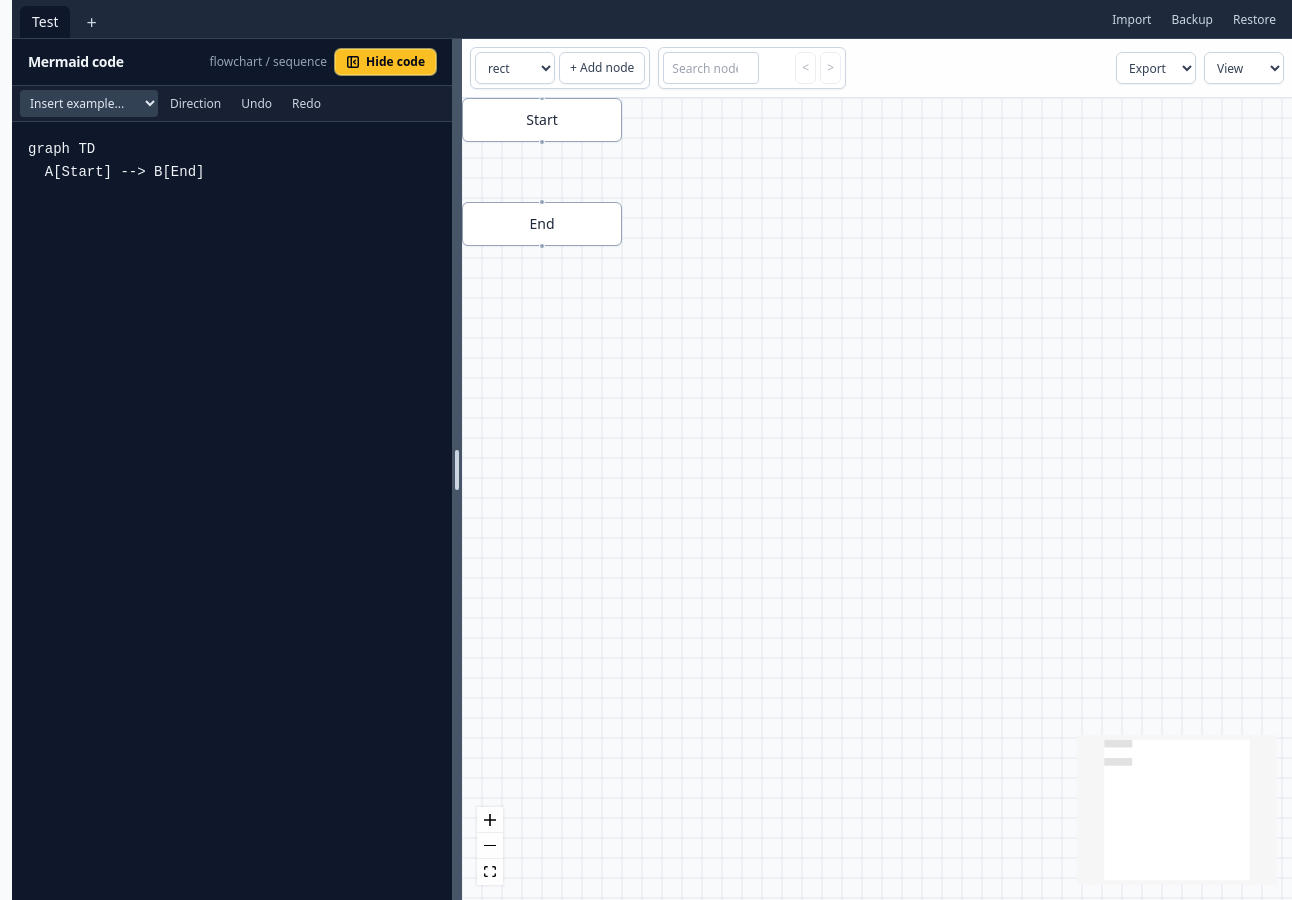
MermaidVisualEditor: node label editing › commits edited labels on blur without treating the blur event as a label
Double-click the text "Start": (542, 120) [462,98,622,142]
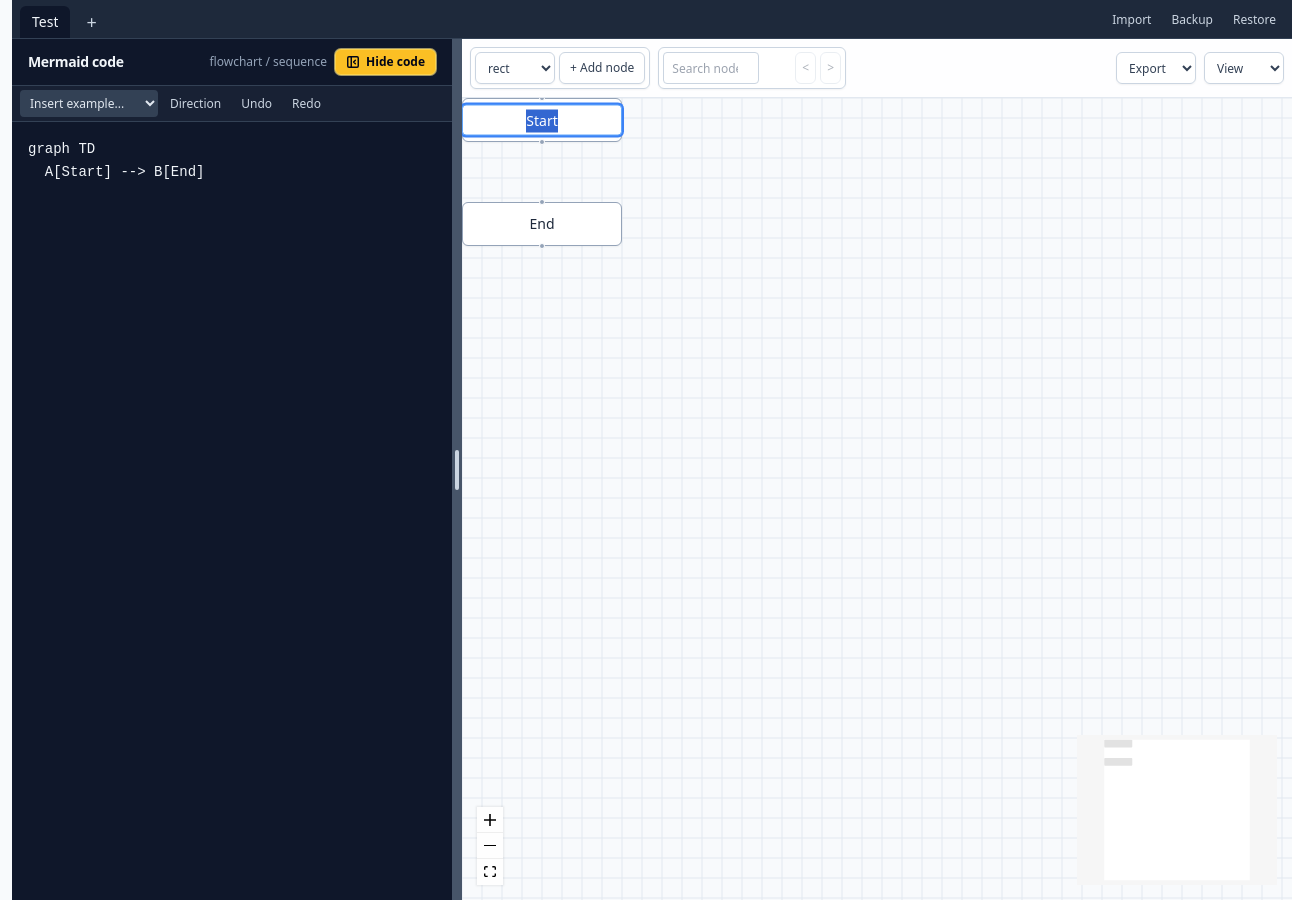
Replace the text in the text box showing "Start" next to "Start" with "Blur label": (542, 120) [462,104,622,136]
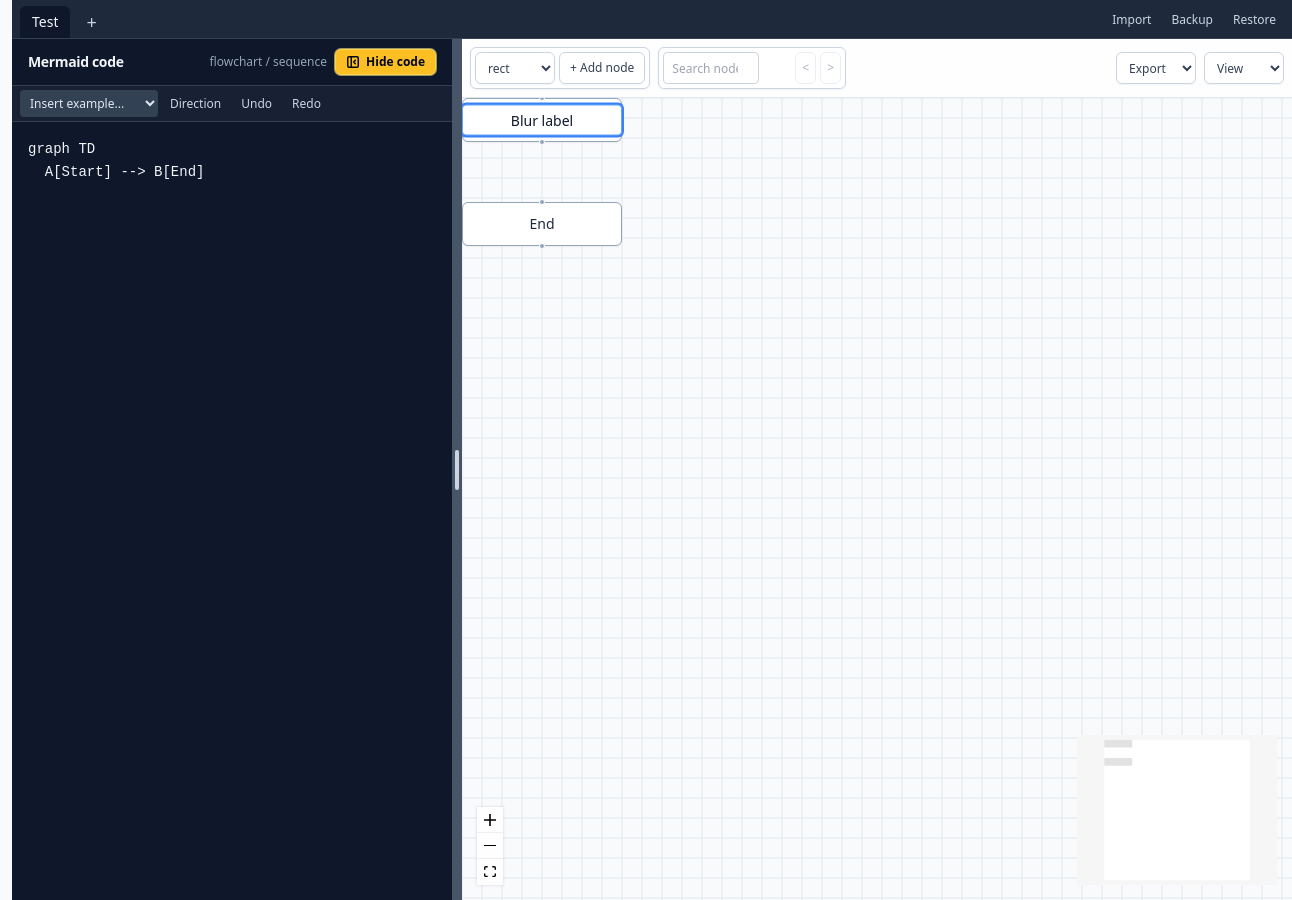
Leave the text box showing "Start" next to "Start", box [462,104,622,136]
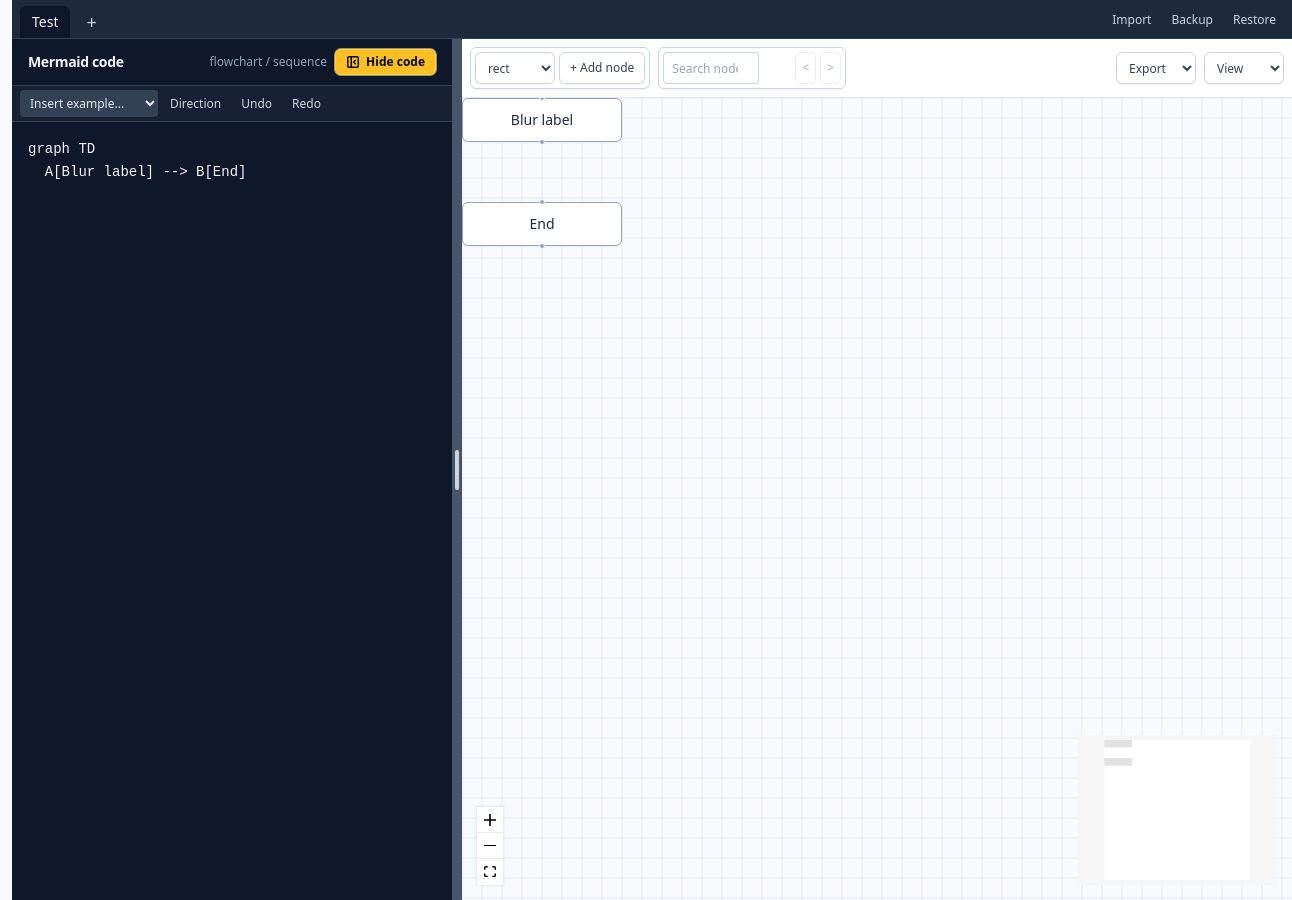
Check: the text "Blur label" is shown, box [462,98,622,142]
